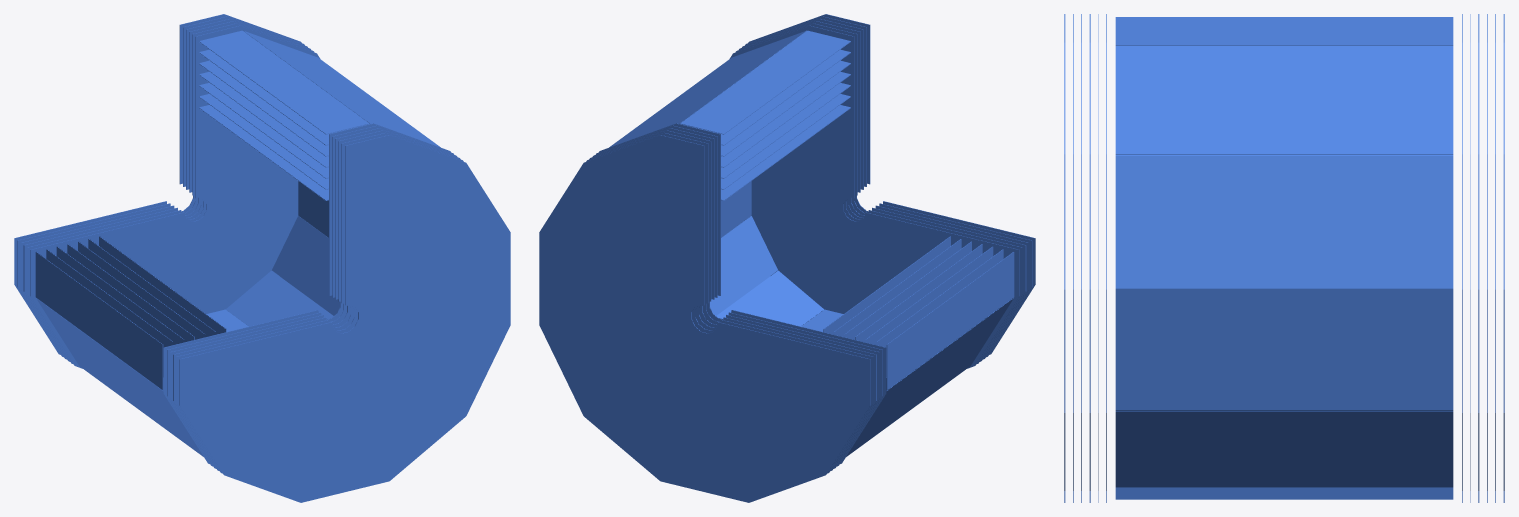
The model's file is Yoke.gltf.
3 views of the same model, side by side, from view 1: azimuth 30°, elevation 25°; view 2: azimuth 150°, elevation 25°; view 3: azimuth 270°, elevation 25° (orthographic). The views are drawn at different scales.
Parts seen in each view (by area): view 1: slice0_0; view 2: slice0_0; view 3: slice0_0.
Boxes of the visible parts, x1,y1,x2,y2 form: slice0_0: (14, 14, 510, 502); slice0_0: (539, 14, 1035, 502); slice0_0: (1064, 14, 1504, 502).
Bounding box in the file's own units: 13.66 × 13.66 × 11.85.
